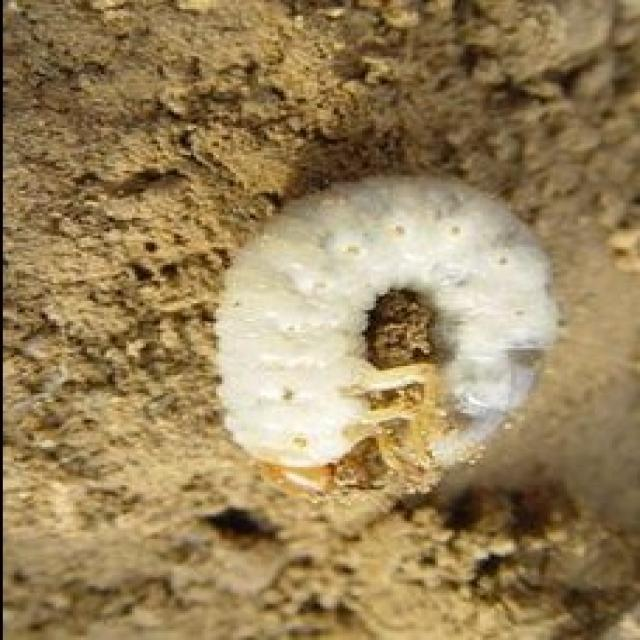grub: (210, 166, 567, 496)
